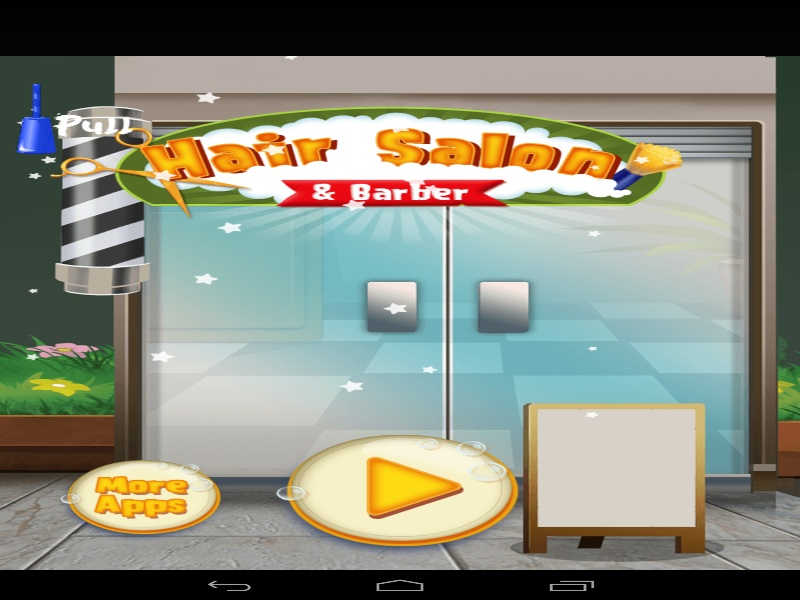Input: (0, 56, 29, 86)
